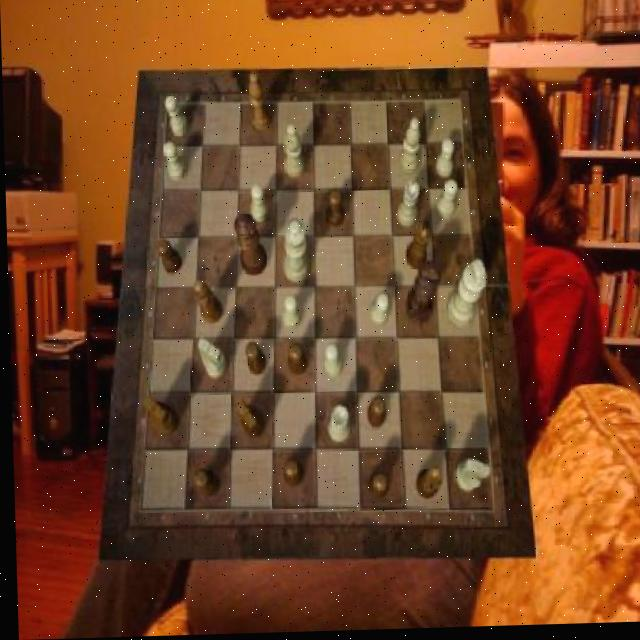bishop: (247, 74, 270, 133), (191, 280, 220, 326)
black-bishop: (402, 262, 440, 327)
black-king: (140, 396, 177, 439), (233, 400, 261, 439)
black-knight: (155, 240, 180, 277), (190, 470, 216, 499), (243, 343, 264, 378), (325, 191, 344, 229), (364, 399, 384, 432), (285, 345, 304, 378), (364, 475, 386, 503), (280, 461, 301, 489)
black-pawn: (232, 214, 267, 279)
black-queen: (404, 229, 430, 273), (412, 469, 439, 503)
black-rook: (396, 120, 420, 176), (283, 125, 304, 180)
white-bishop: (443, 263, 485, 330)
white-king: (451, 461, 487, 496), (194, 338, 223, 380)
white-knight: (162, 96, 186, 138), (163, 144, 186, 183), (434, 182, 456, 220), (434, 142, 453, 181), (367, 296, 388, 330), (247, 185, 265, 224), (321, 346, 340, 381), (280, 296, 299, 331)
white-pawn: (279, 219, 307, 285)
white-queen: (394, 183, 418, 229), (324, 407, 348, 445)
